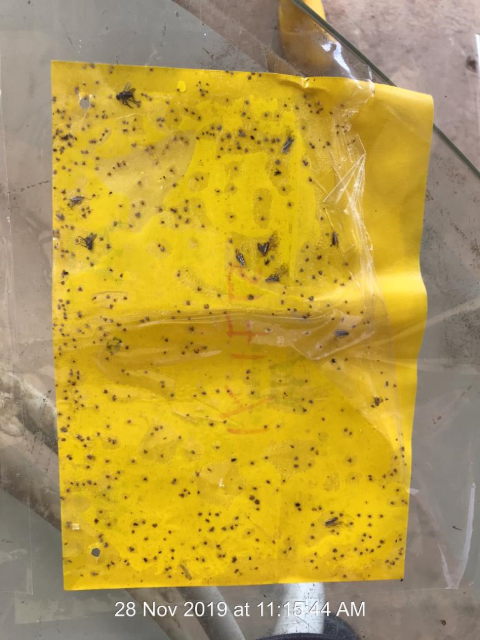DBM: (232, 249, 249, 270), (67, 194, 89, 209), (255, 240, 273, 258), (324, 514, 343, 529), (281, 134, 294, 155), (329, 229, 341, 249)
